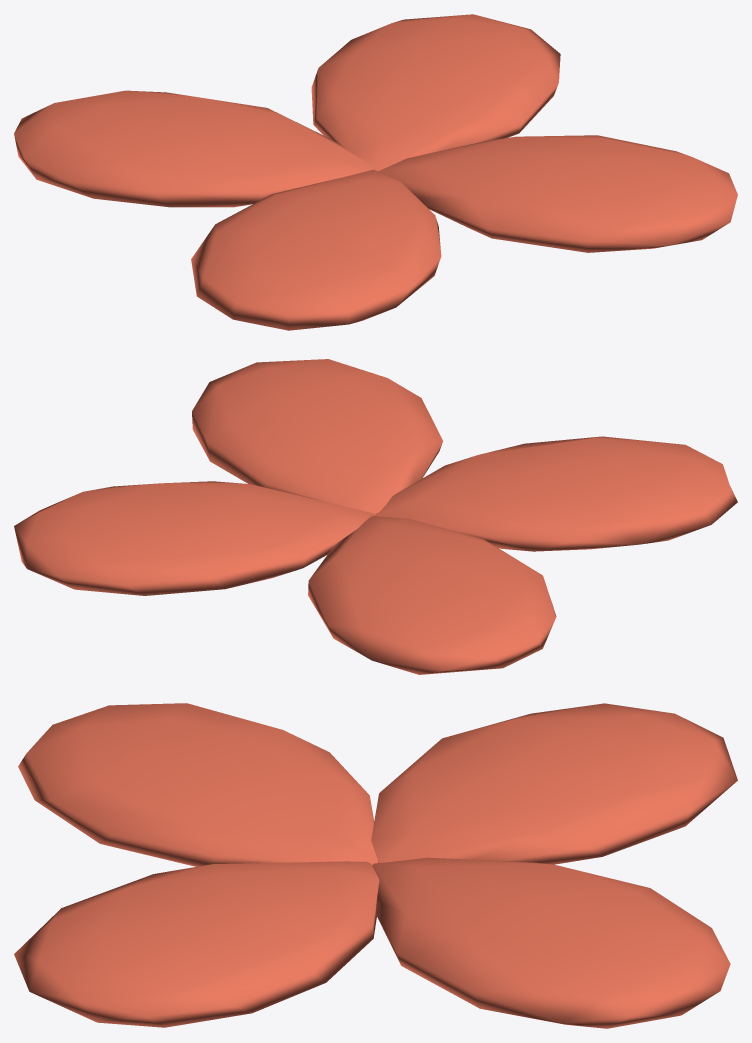
The model's file is redflower.fbx.
The picture shows the model from 3 angles, top to bottom: view 1: azimuth 30°, elevation 25°; view 2: azimuth 150°, elevation 25°; view 3: azimuth 270°, elevation 25°; orthographic projection. The views are drawn at different scales.
Visible parts, largest first — view 1: flower2_2.001; view 2: flower2_2.001; view 3: flower2_2.001.
Part boxes in pixels (x1,y1,x2,y2): flower2_2.001: (14, 14, 737, 330); flower2_2.001: (14, 359, 737, 674); flower2_2.001: (14, 703, 737, 1028).
Bounding box in the file's own units: 41.72 × 3.74 × 41.15.
